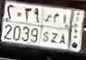0: (13, 11, 22, 41)
2: (4, 4, 14, 41)
3: (21, 7, 32, 42)
9: (30, 7, 40, 43)
A: (59, 13, 68, 45)
S: (42, 13, 52, 42)
Z: (51, 13, 60, 44)
